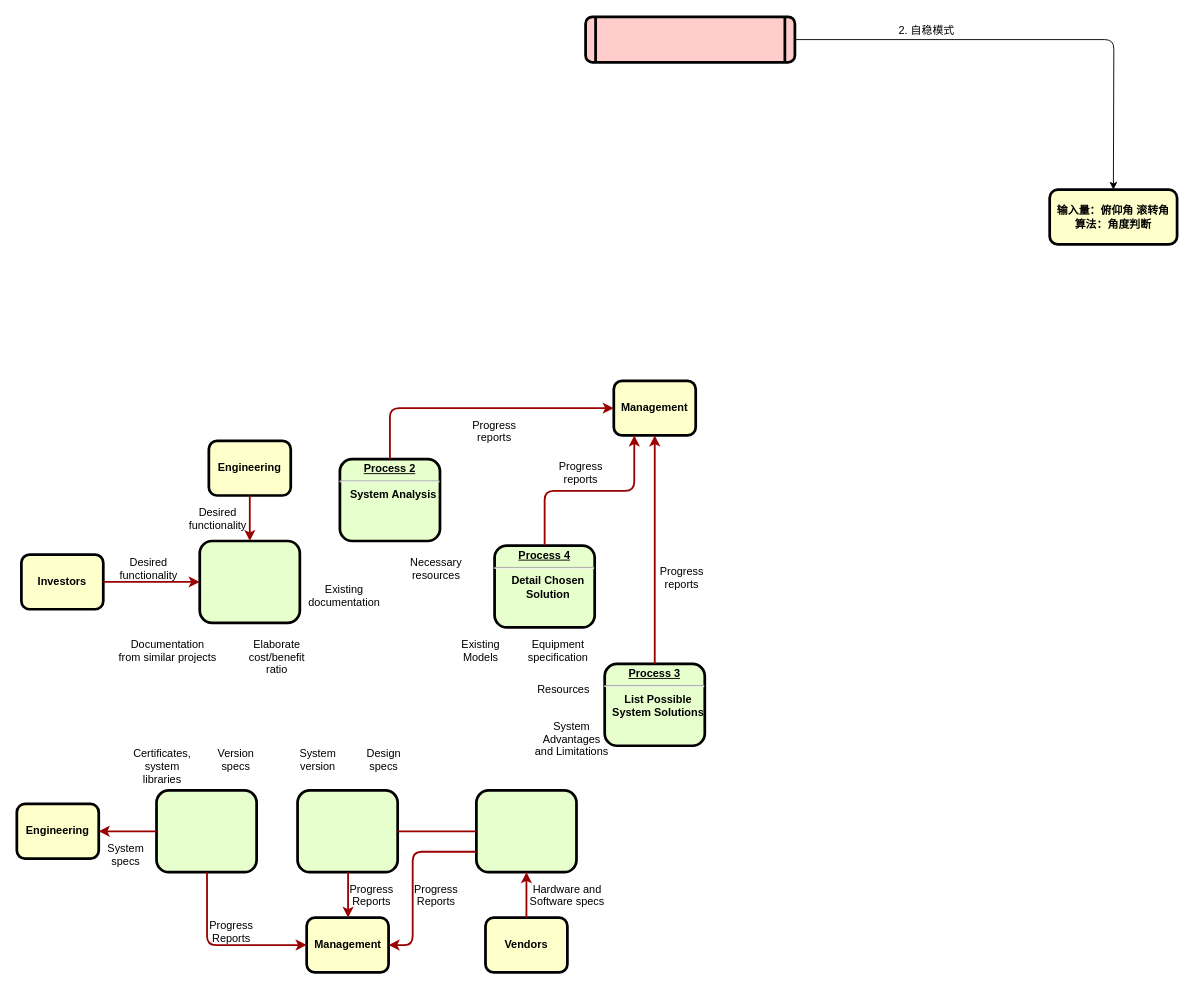
Image size: 1194x989. Some labels were removed from this diagram. The shapes that lost their labels are listed below. From the top down, each one's centre as x and y in pixels, then its label:
pixel 690 39: 控制信号 1. 行走模式：前后左右，前倾后仰侧身 2. 自稳模式
pixel 249 581: Process 1 System Study Preparation
pixel 206 831: Process 6 New System Construction
pixel 347 831: Process 7 New System Startup and Testing
pixel 526 831: Process 5 New System Design
